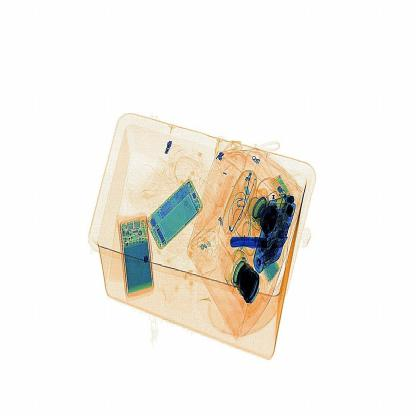knife: (221, 228, 274, 251)
